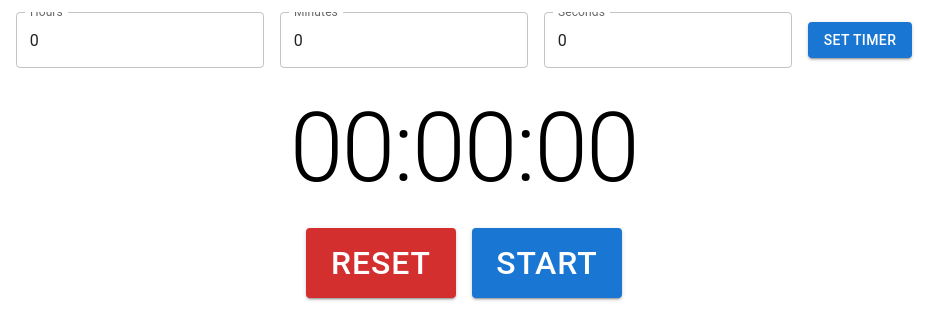
Scenario: TimerDisplay component - extended tests › toggles between 'Pause' and 'Start' when clicked repeatedly
The width and height of the screenshot is (930, 318).
Replace the text in the number field labelled "Seconds" with "10" at {"x": 668, "y": 40}, box [544,12,792,68]
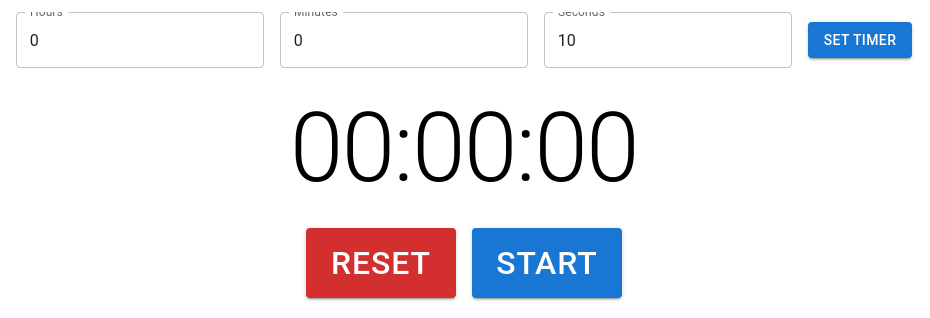
Click the button "Set Timer".
click(860, 40)  # box [808,22,912,58]
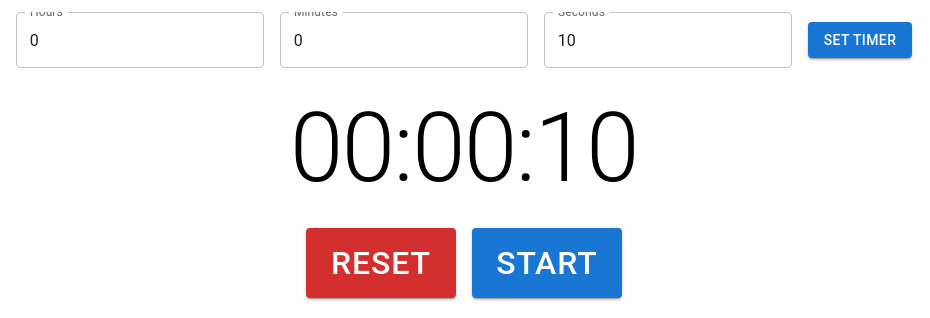
Click the button "Start".
click(547, 263)  # box [472,228,622,298]
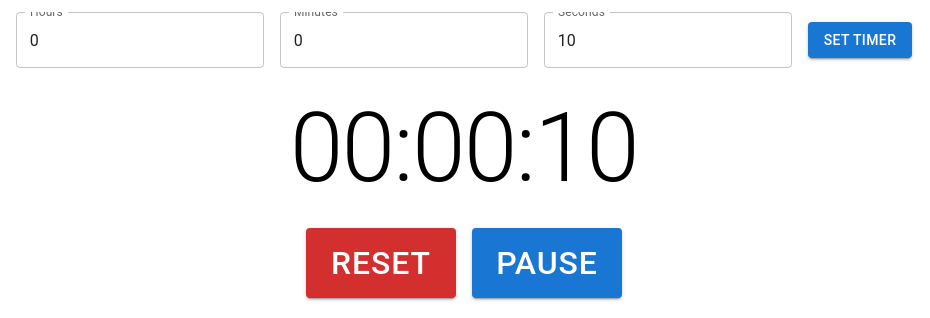
Expected: the button "Pause" is shown
Click the button "Pause".
click(547, 263)  # box [472,228,622,298]
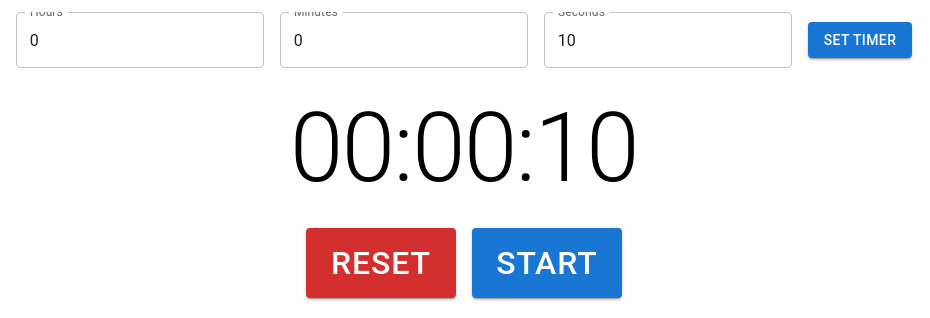
Expected: the button "Start" is shown, [472,228,622,298]
